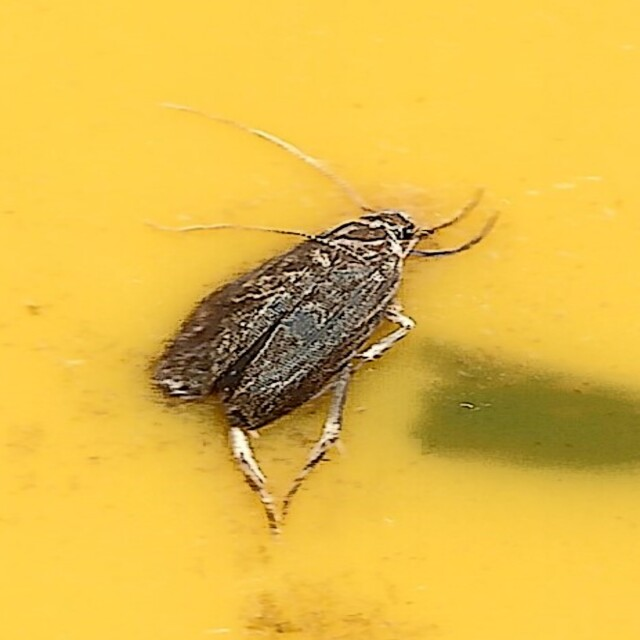Lepidoptera: (138, 97, 502, 543)
